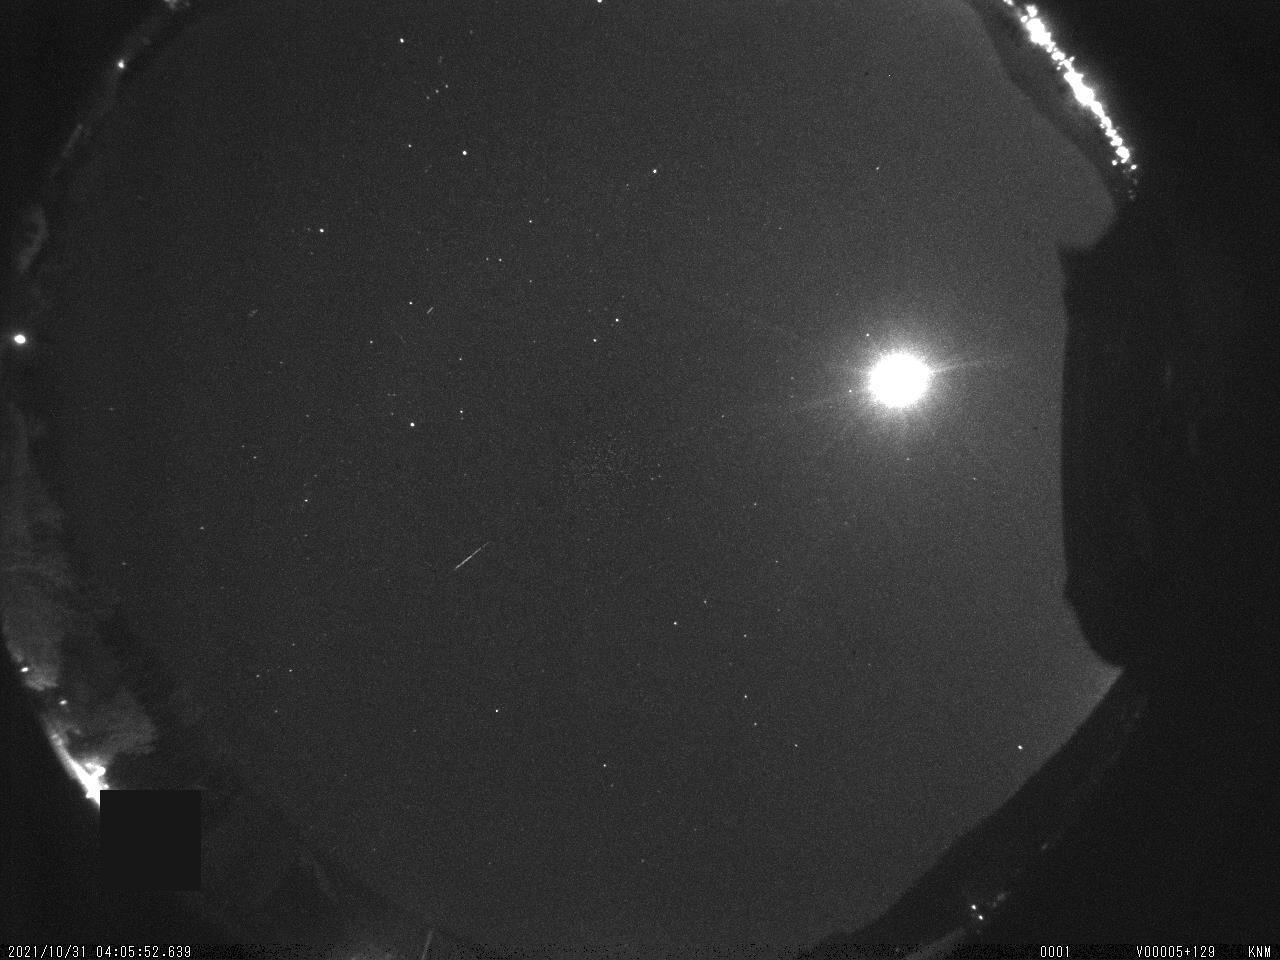Meteor: (447, 536, 497, 578)
